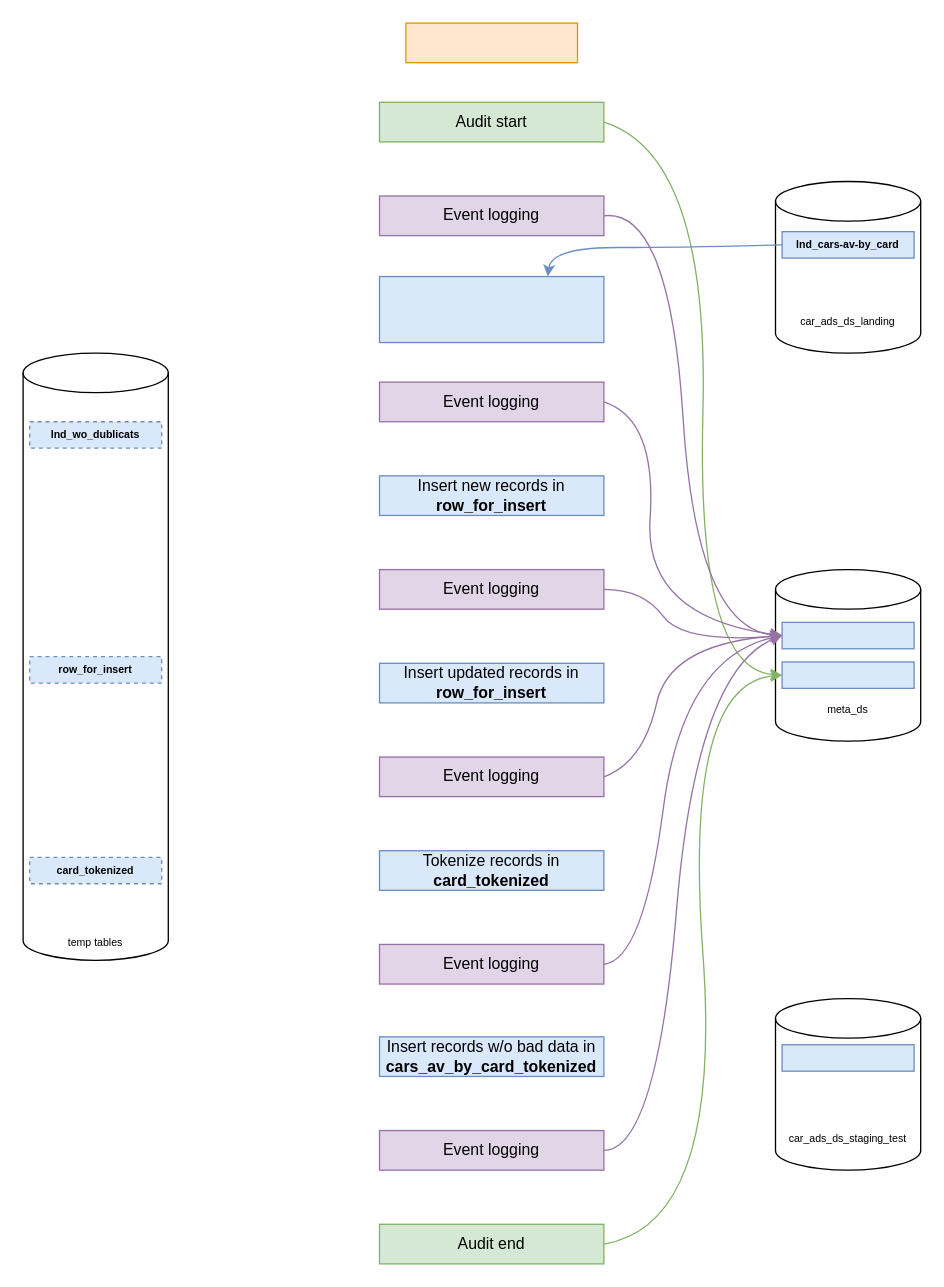
The diagram is 944 pixels wide and 1287 high, and some of its shapes have lost their labels. The shapes that lost their labels are listed below. From the top down, each one's centre as x and y in pixels, then its label:
At pixel 491 42: "Full merge reload".
At pixel 491 309: "Insert records without duplicates in lnd_wo_dublicats".
At pixel 847 635: "audit_event_log".
At pixel 847 674: "audit_process_log".
At pixel 847 1057: "cars_av_by_card_tokenized".
